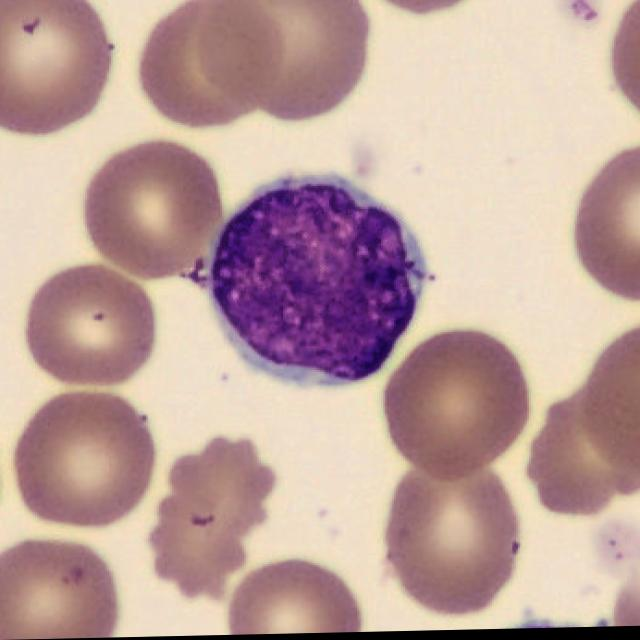Linfocito: (202, 180, 433, 384)
